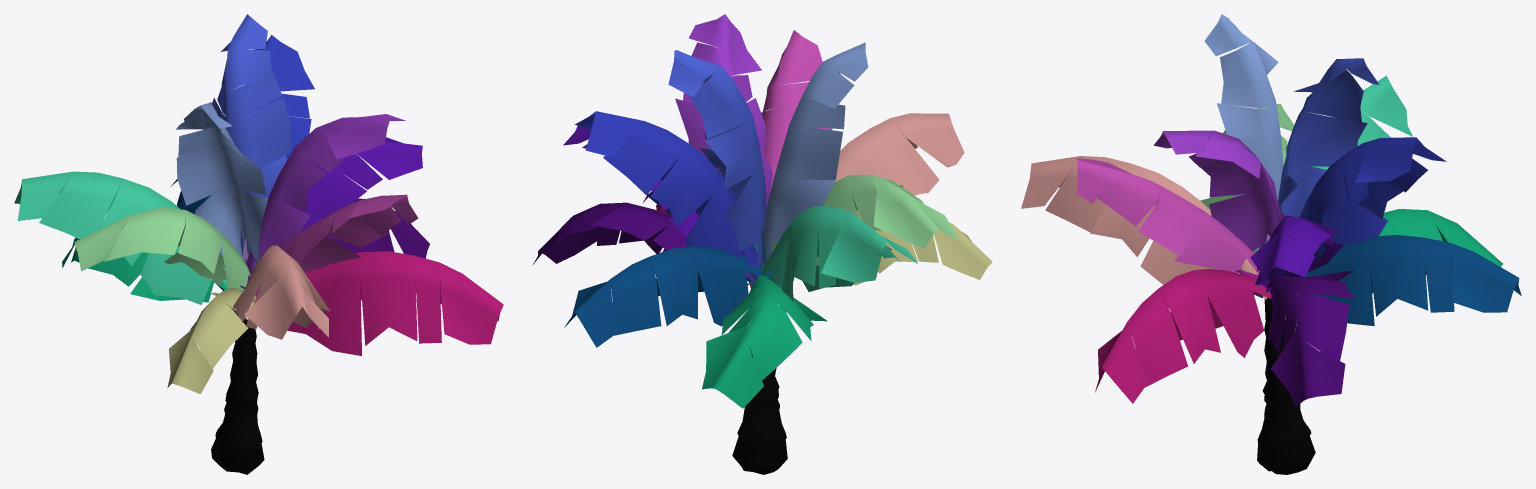
The model's file is SM_PalmCoconut_03.fbx.
3 views of the same model, side by side, from view 1: azimuth 30°, elevation 25°; view 2: azimuth 150°, elevation 25°; view 3: azimuth 270°, elevation 25° (orthographic). The views are drawn at different scales.
Parts seen in each view (by area): view 1: SM_PalmCoconut_03_LOD0; view 2: SM_PalmCoconut_03_LOD0; view 3: SM_PalmCoconut_03_LOD0.
Boxes of the visible parts, <box> form: SM_PalmCoconut_03_LOD0: <box>14,14,503,474</box>; SM_PalmCoconut_03_LOD0: <box>532,14,992,474</box>; SM_PalmCoconut_03_LOD0: <box>1021,14,1521,474</box>.
Size of the model in its own units: 751 by 802 by 771.
